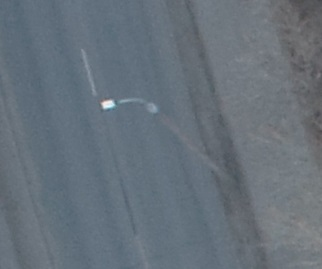opora: (102, 87, 237, 189)
